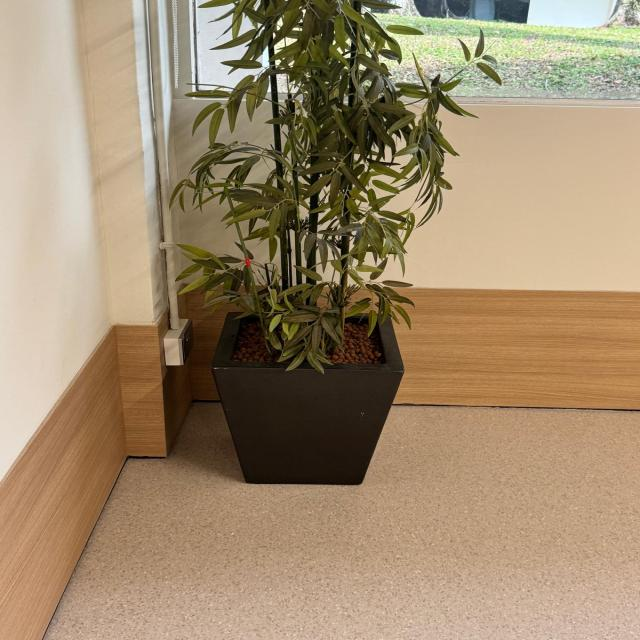Pot: (210, 312, 406, 486)
